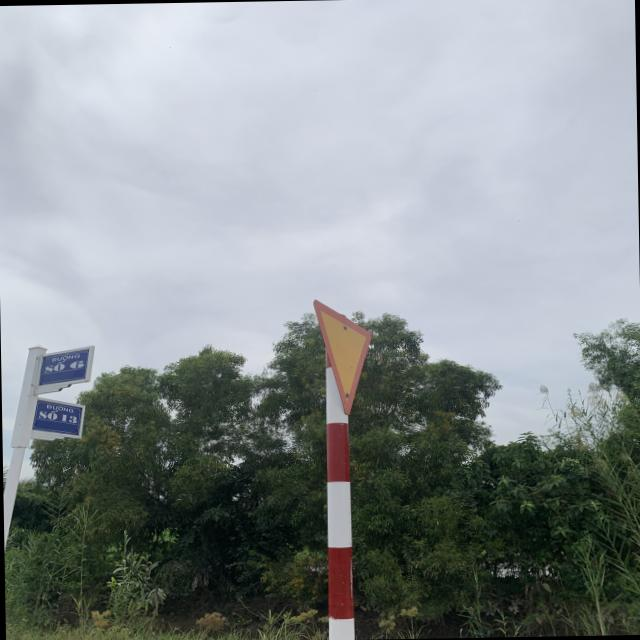Gioi_Han_Toc_Do_25: (311, 298, 371, 416)
